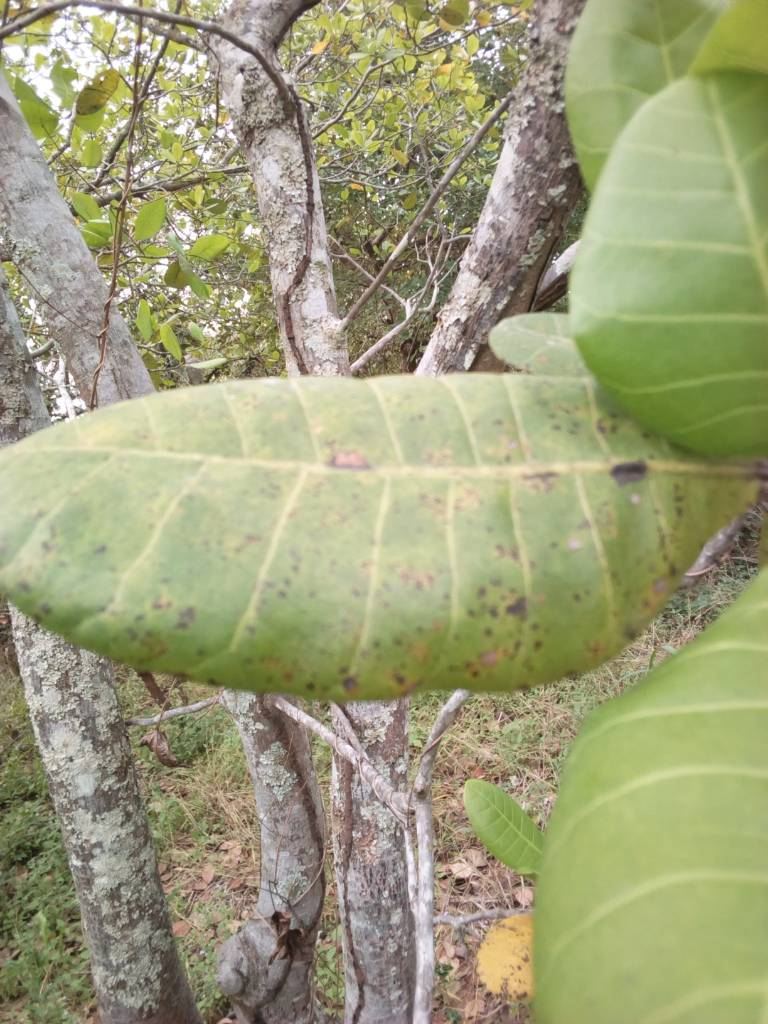Anthracnose: (5, 375, 674, 700)
